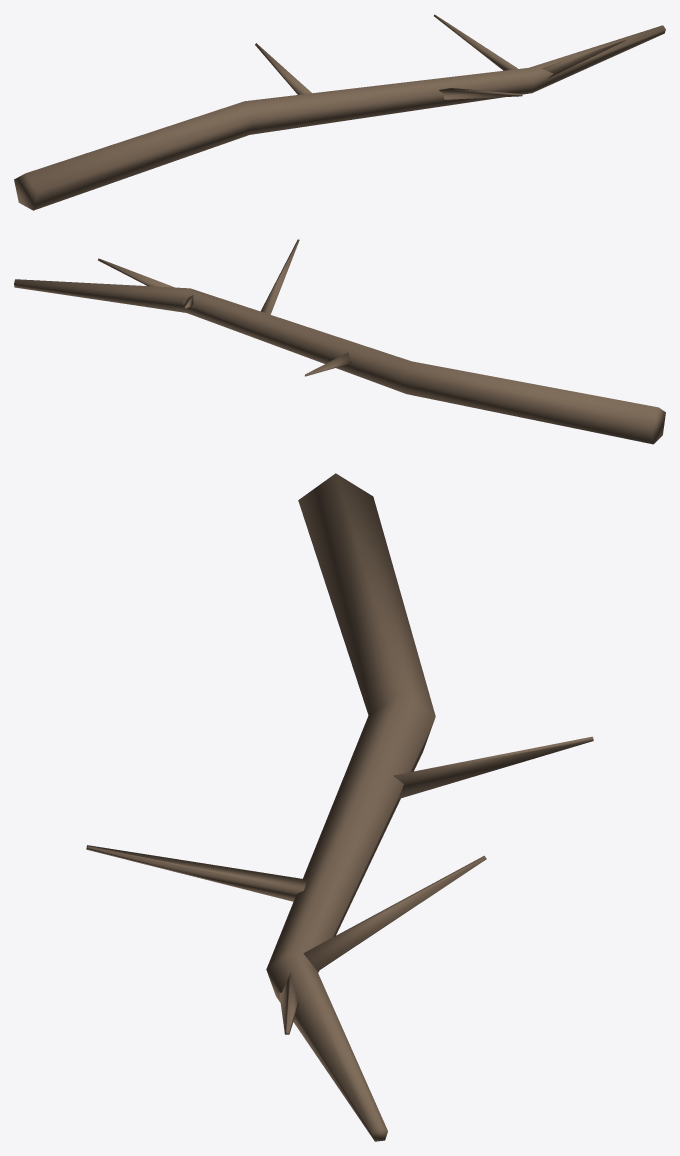
File: fallen-branch.glb
3 renders of one model, top to bottom at view 1: azimuth 30°, elevation 25°; view 2: azimuth 150°, elevation 25°; view 3: azimuth 270°, elevation 25°, orthographic. The views are drawn at different scales.
Visible parts, largest first — view 1: prop_fallen-branch_LOD0; view 2: prop_fallen-branch_LOD0; view 3: prop_fallen-branch_LOD0.
Part boxes in pixels (bbox=[...]): prop_fallen-branch_LOD0: bbox=[14, 14, 665, 210]; prop_fallen-branch_LOD0: bbox=[14, 239, 665, 444]; prop_fallen-branch_LOD0: bbox=[86, 473, 593, 1141].
Size of the model in its own units: 3.32 by 0.2703 by 1.15.
